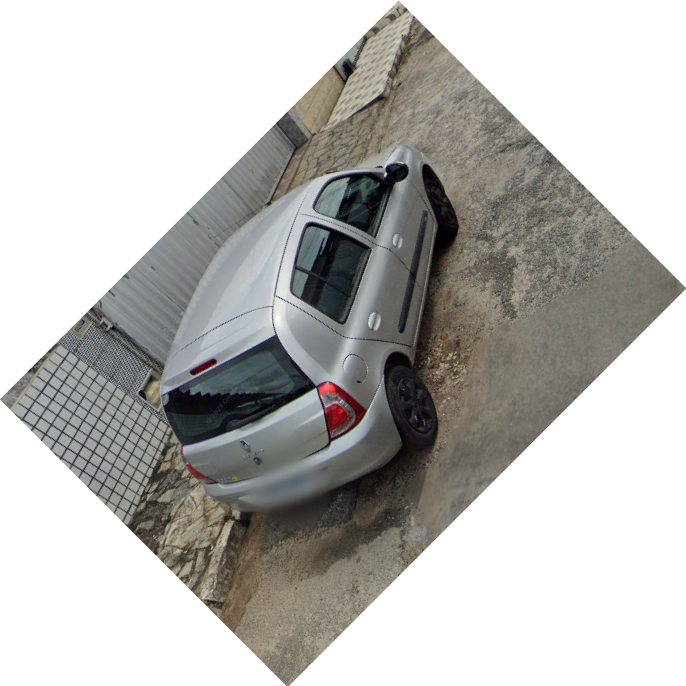car: (153, 141, 459, 523)
